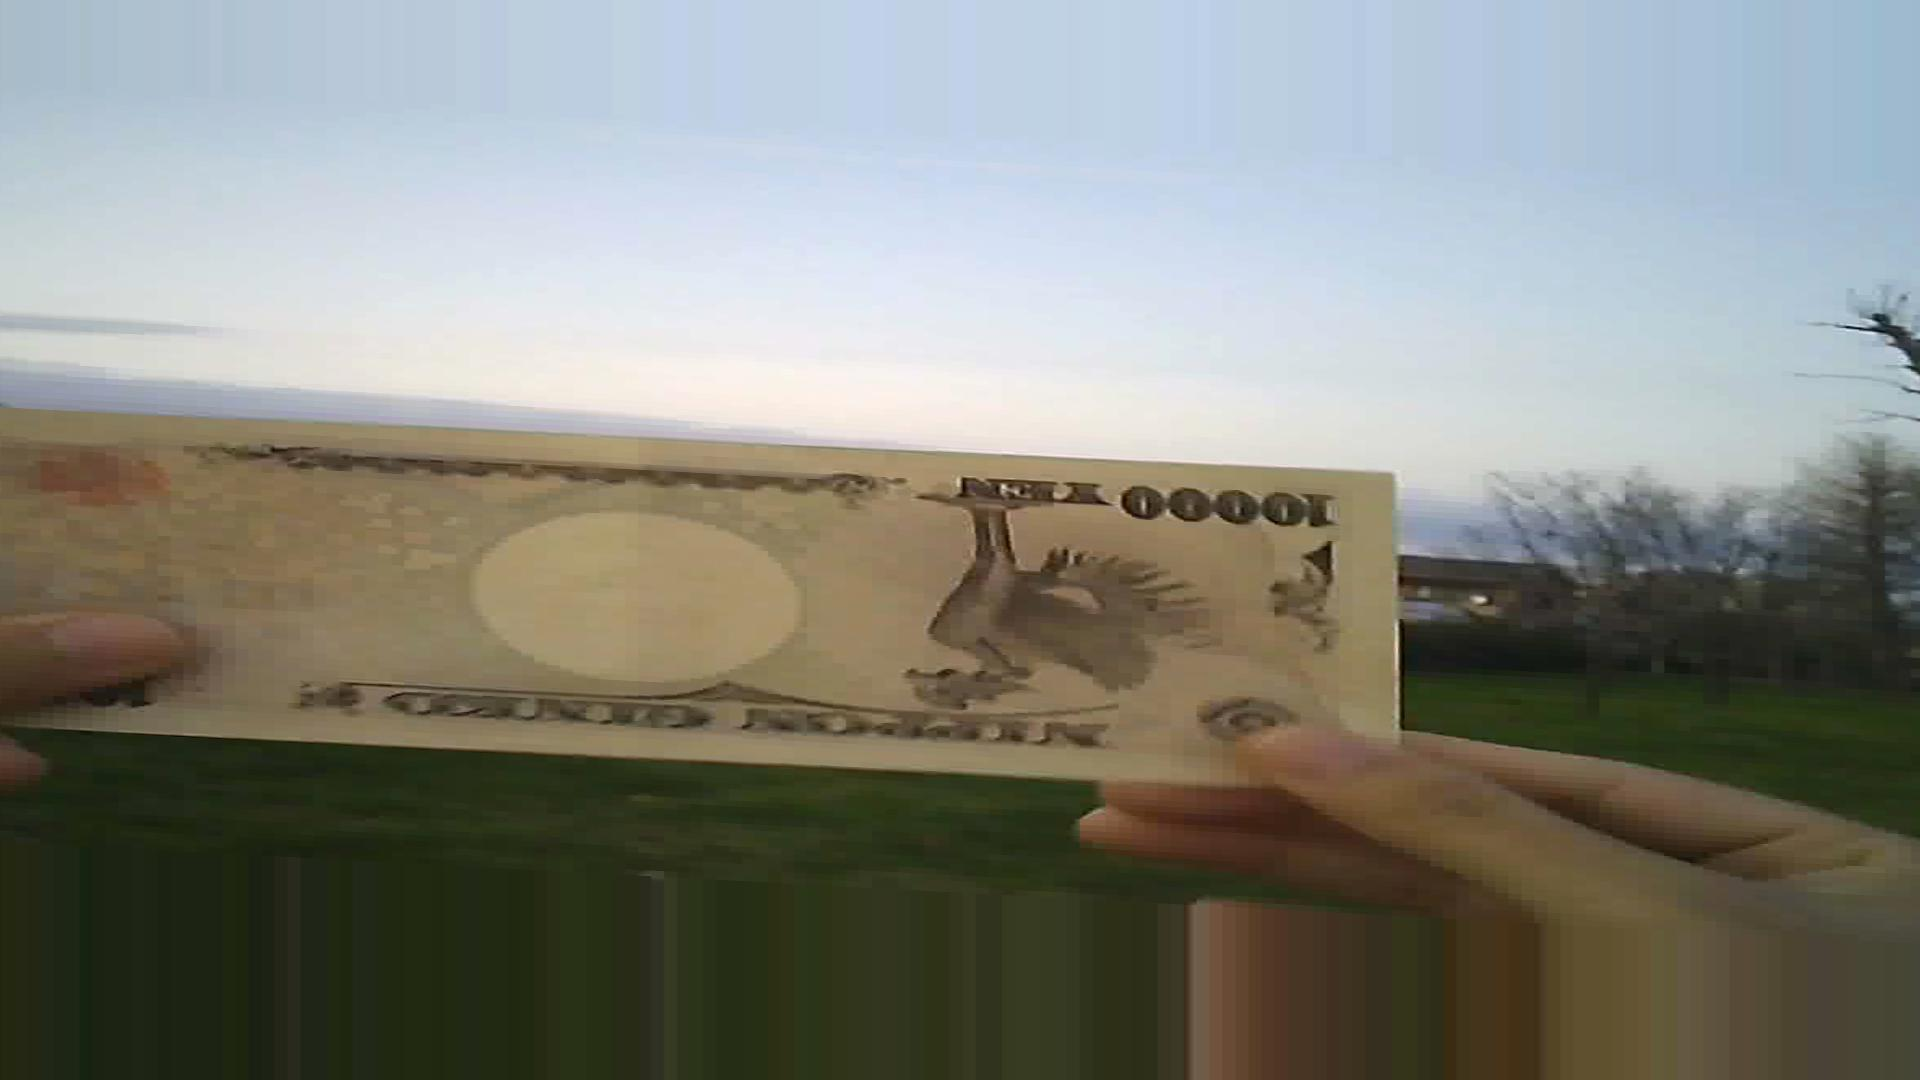10,000 Yen: (102, 407, 1433, 825)
